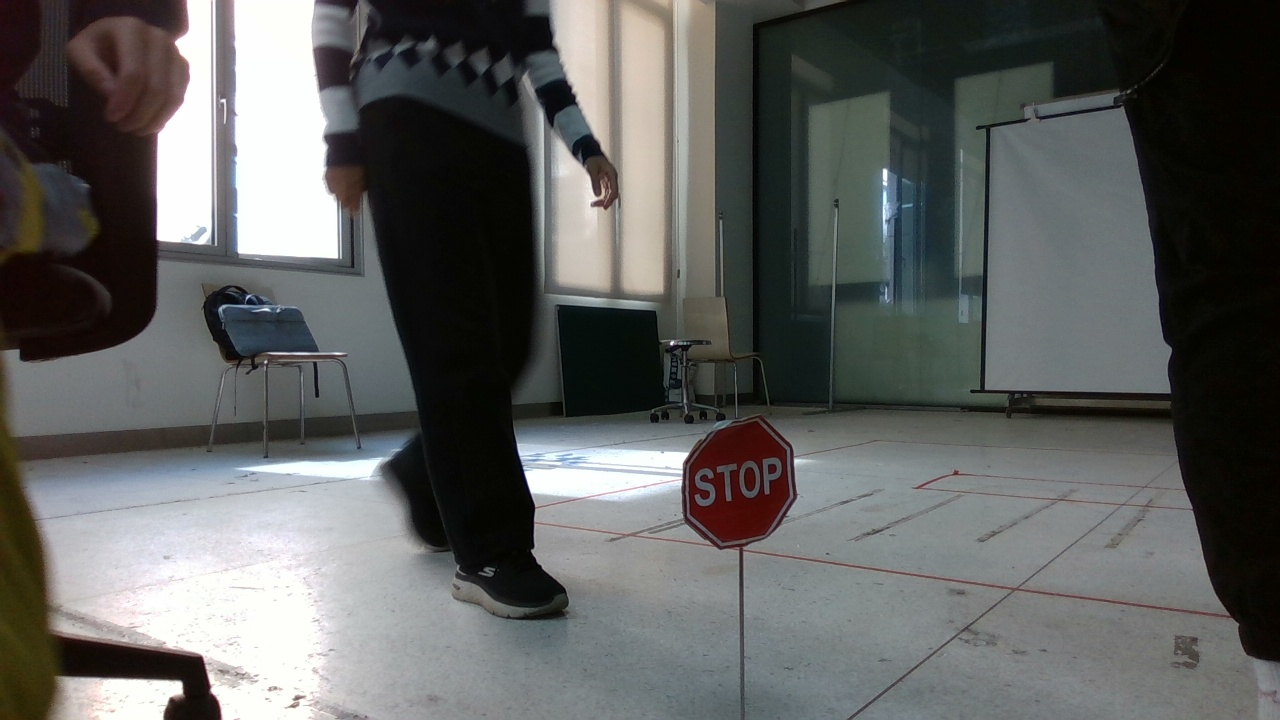stop_sign: (668, 417, 826, 556)
